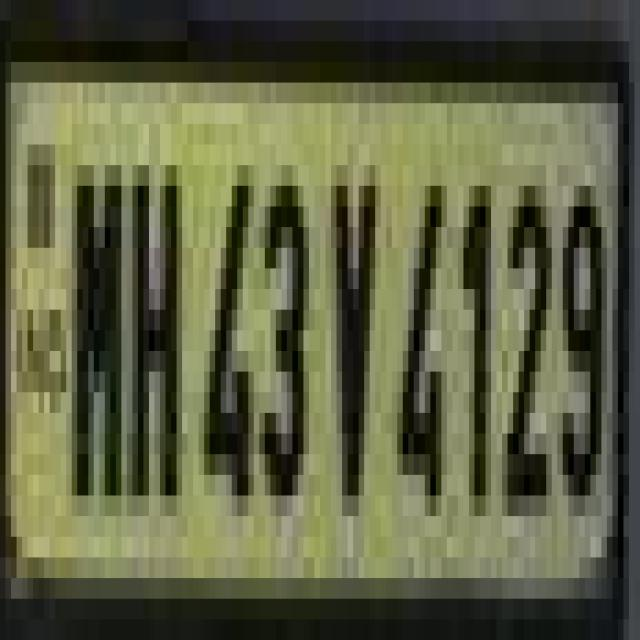license_plate: (0, 41, 629, 640)
